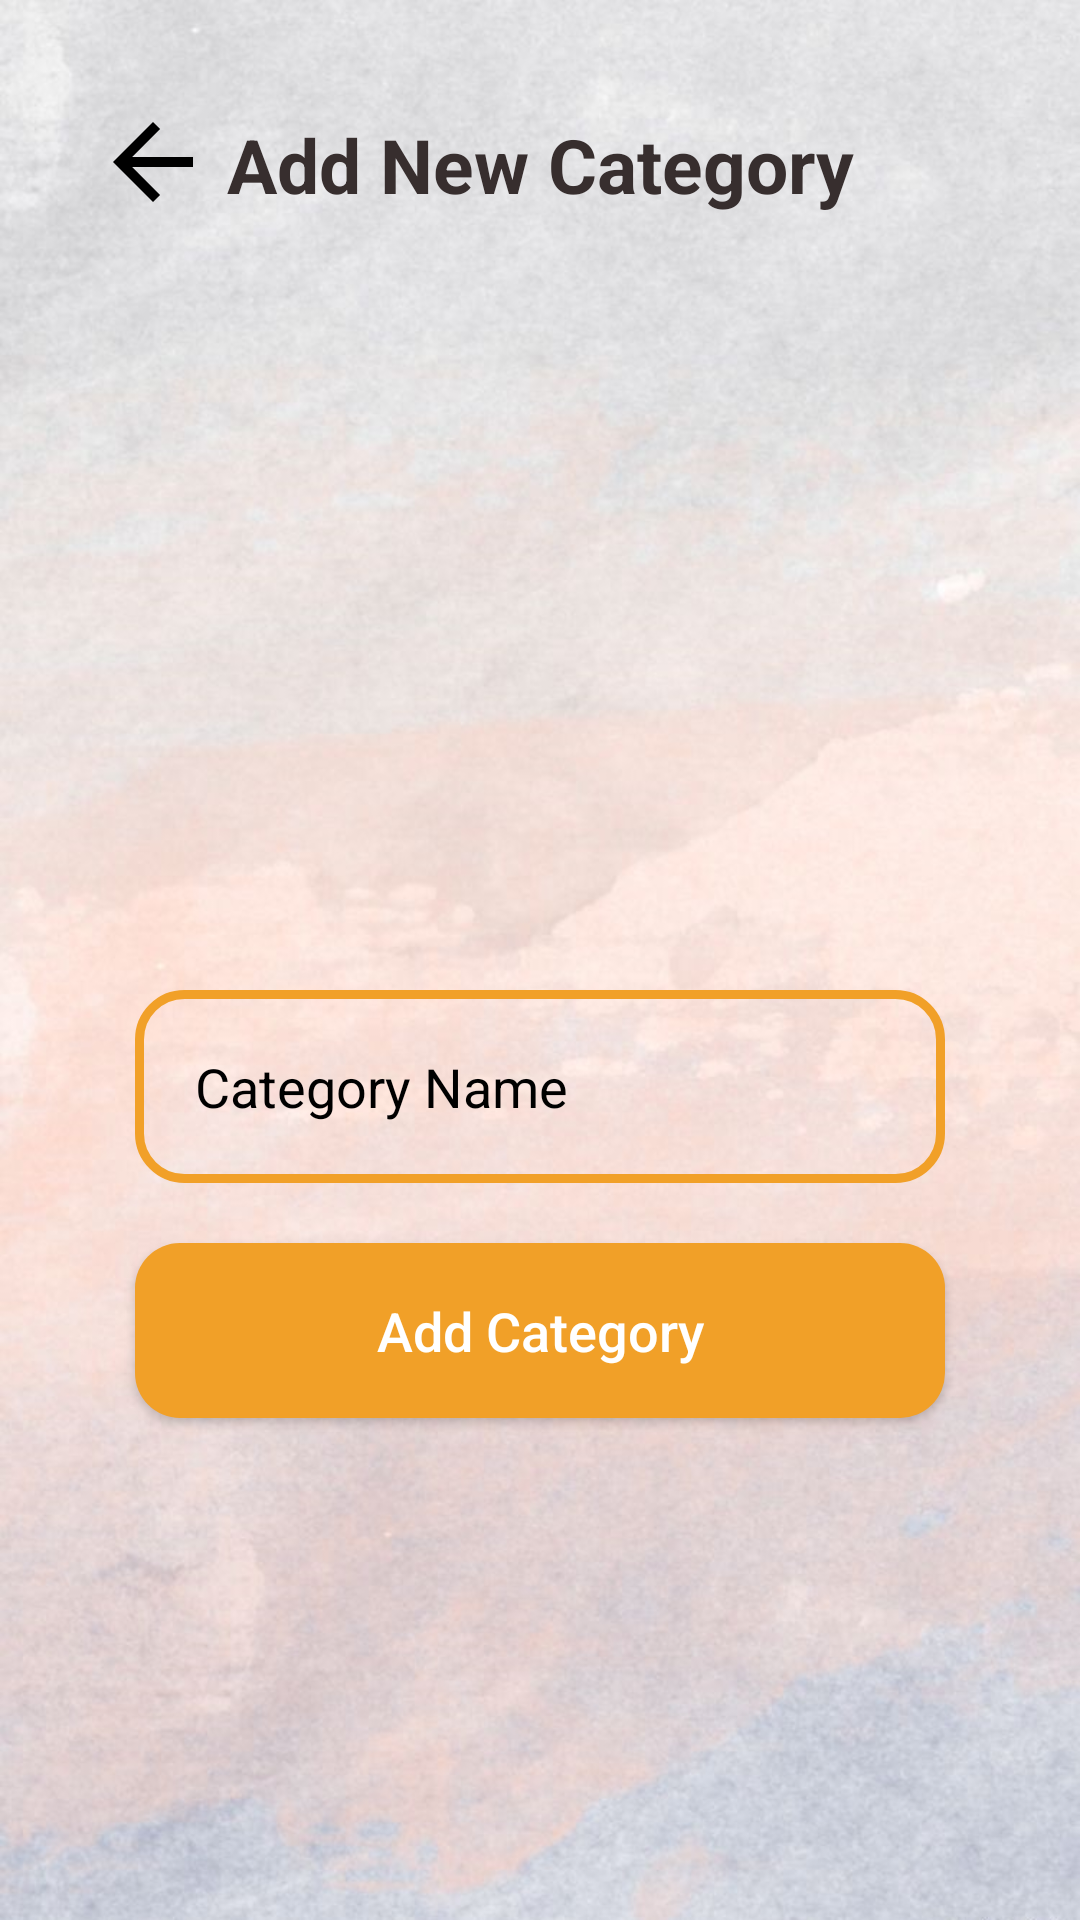

Where to tap for icons on this 1080w x 1920h app screen, as (x,y):
back: (153,162)
